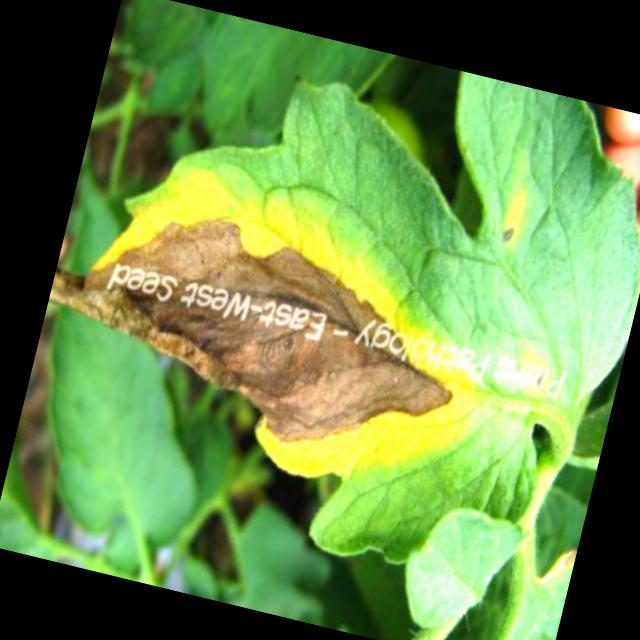Early_blight: (22, 147, 517, 513), (531, 365, 552, 395), (498, 225, 523, 248)
